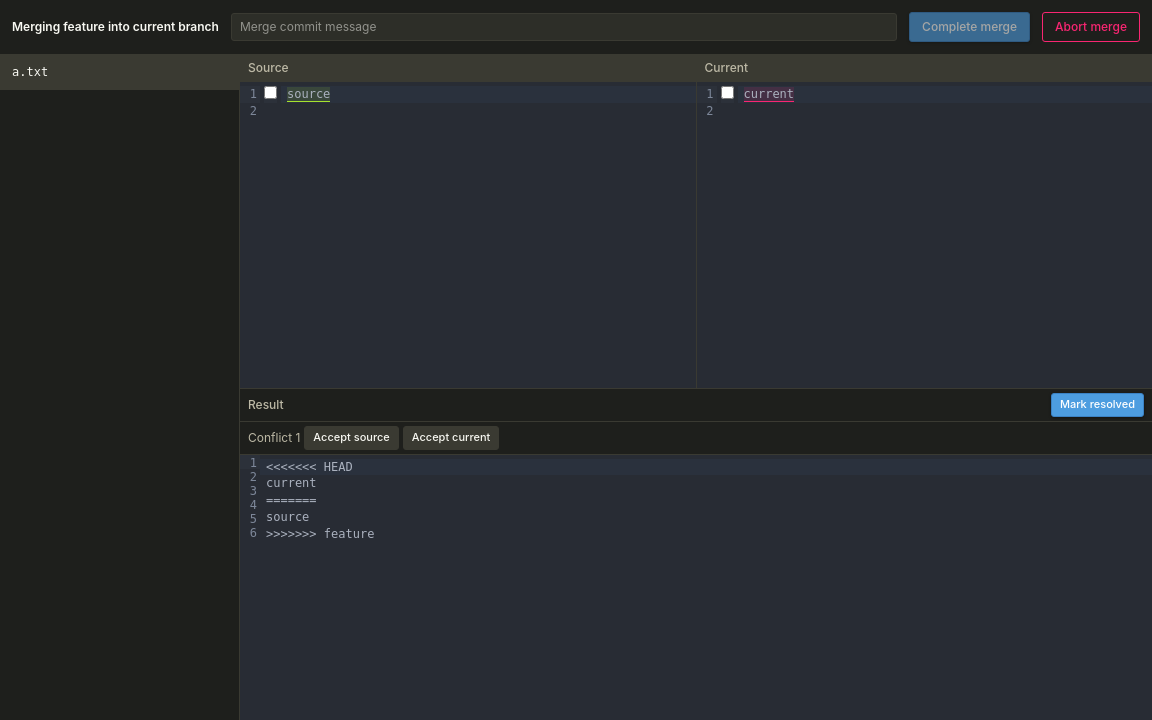
Test: MergeEditor › keeps a file's dirty flag set when marking it resolved fails, so Abort still prompts
Click the button "Accept current".
click(451, 438)  # box [403,426,499,450]
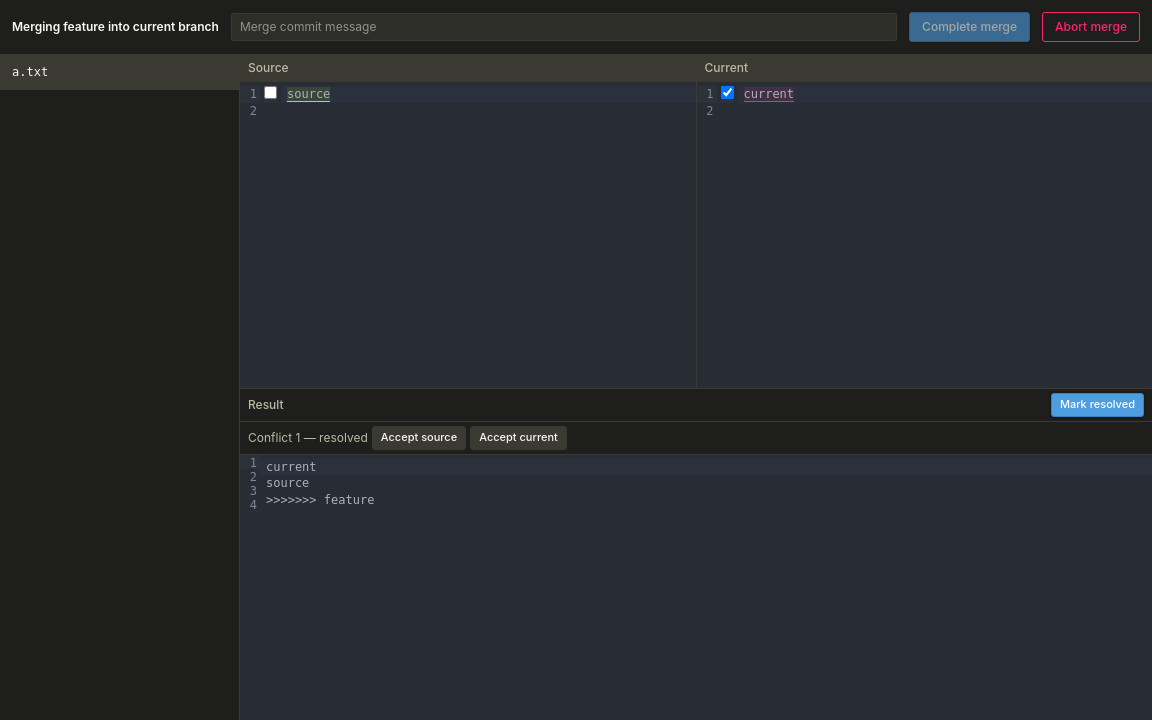
Click the button "Mark resolved".
click(1097, 404)  # box [1051,392,1144,416]
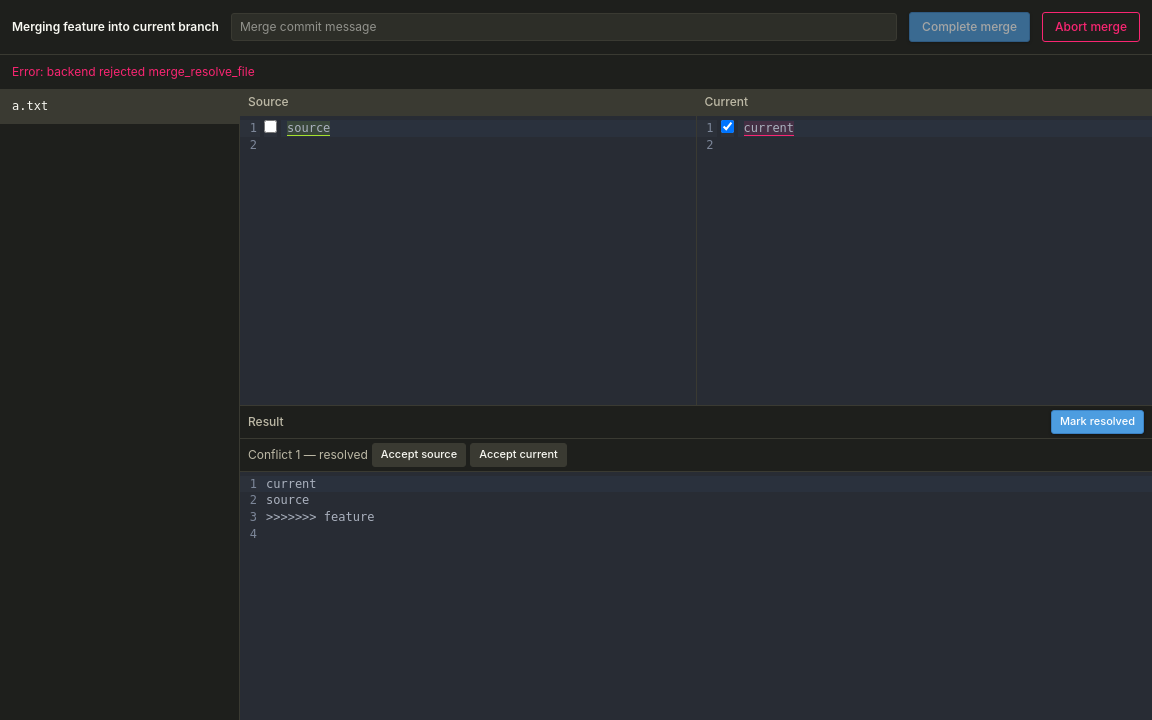
Check: the button "a.txt" is shown, box [0,89,239,124]
Check: the text "Error: backend rejected merge_resolve_file" is shown, box [12,64,255,79]
Click the button "Abort merge".
click(1091, 27)  # box [1042,12,1140,42]
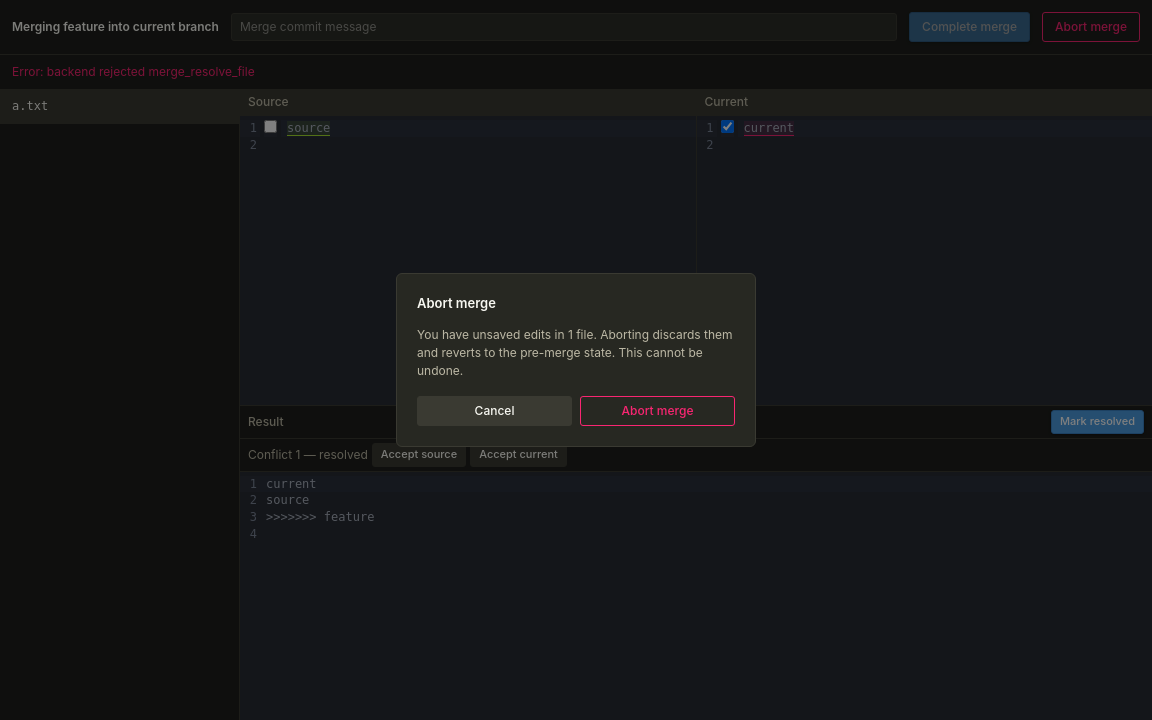
Check: the dialog "Abort" is shown
